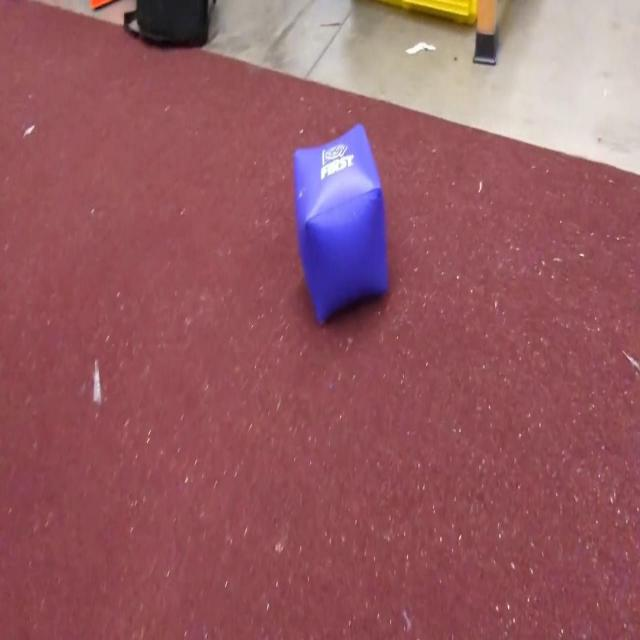frc_cube: (294, 124, 389, 328)
